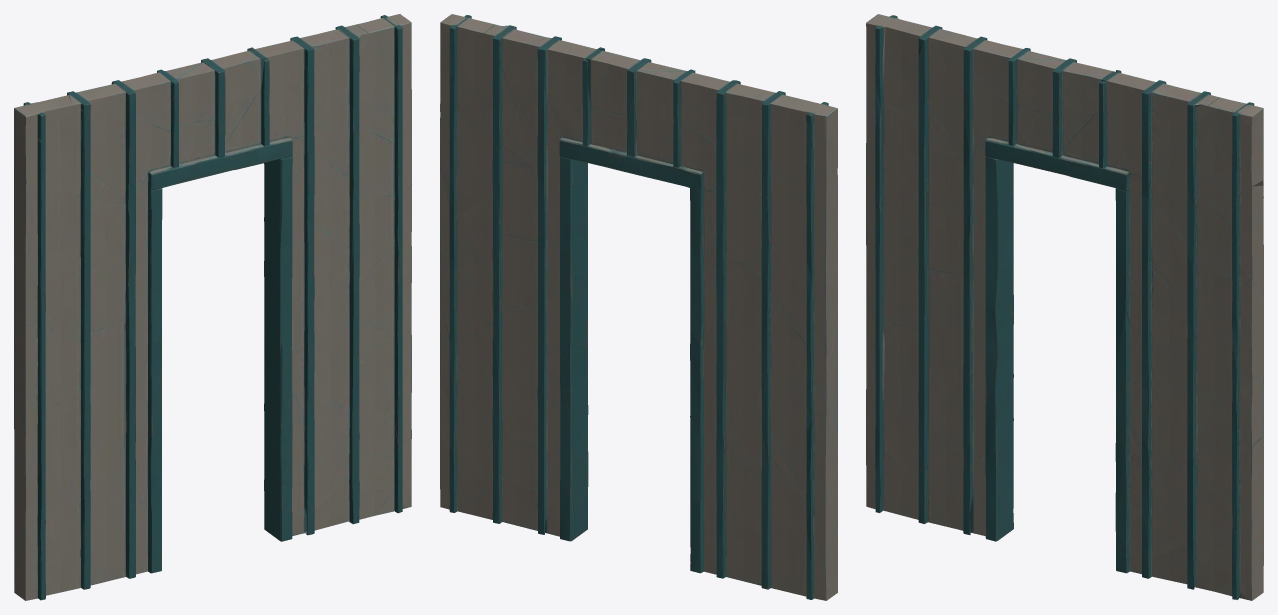
Rendered from doorway.glb.
3 views of the same model, side by side, from view 1: azimuth 30°, elevation 25°; view 2: azimuth 150°, elevation 25°; view 3: azimuth 330°, elevation 25° (orthographic).
Visible parts, largest first — view 1: Mesh_0; view 2: Mesh_0; view 3: Mesh_0.
Boxes of the visible parts, x1=… form: Mesh_0: x1=14, y1=14, x2=411, y2=600; Mesh_0: x1=440, y1=14, x2=837, y2=600; Mesh_0: x1=866, y1=14, x2=1263, y2=600.
Bounding box in the file's own units: 2 × 2.4 × 0.16.
1 material, 1 textured.
